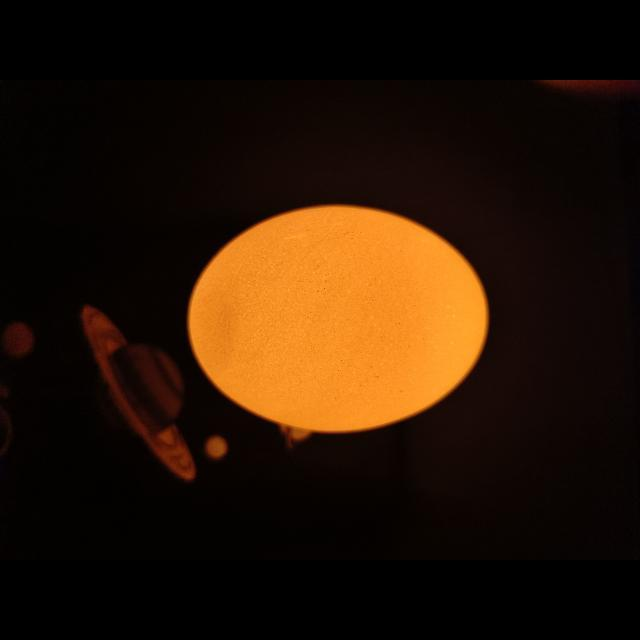AA - Premium: (189, 205, 489, 433)
